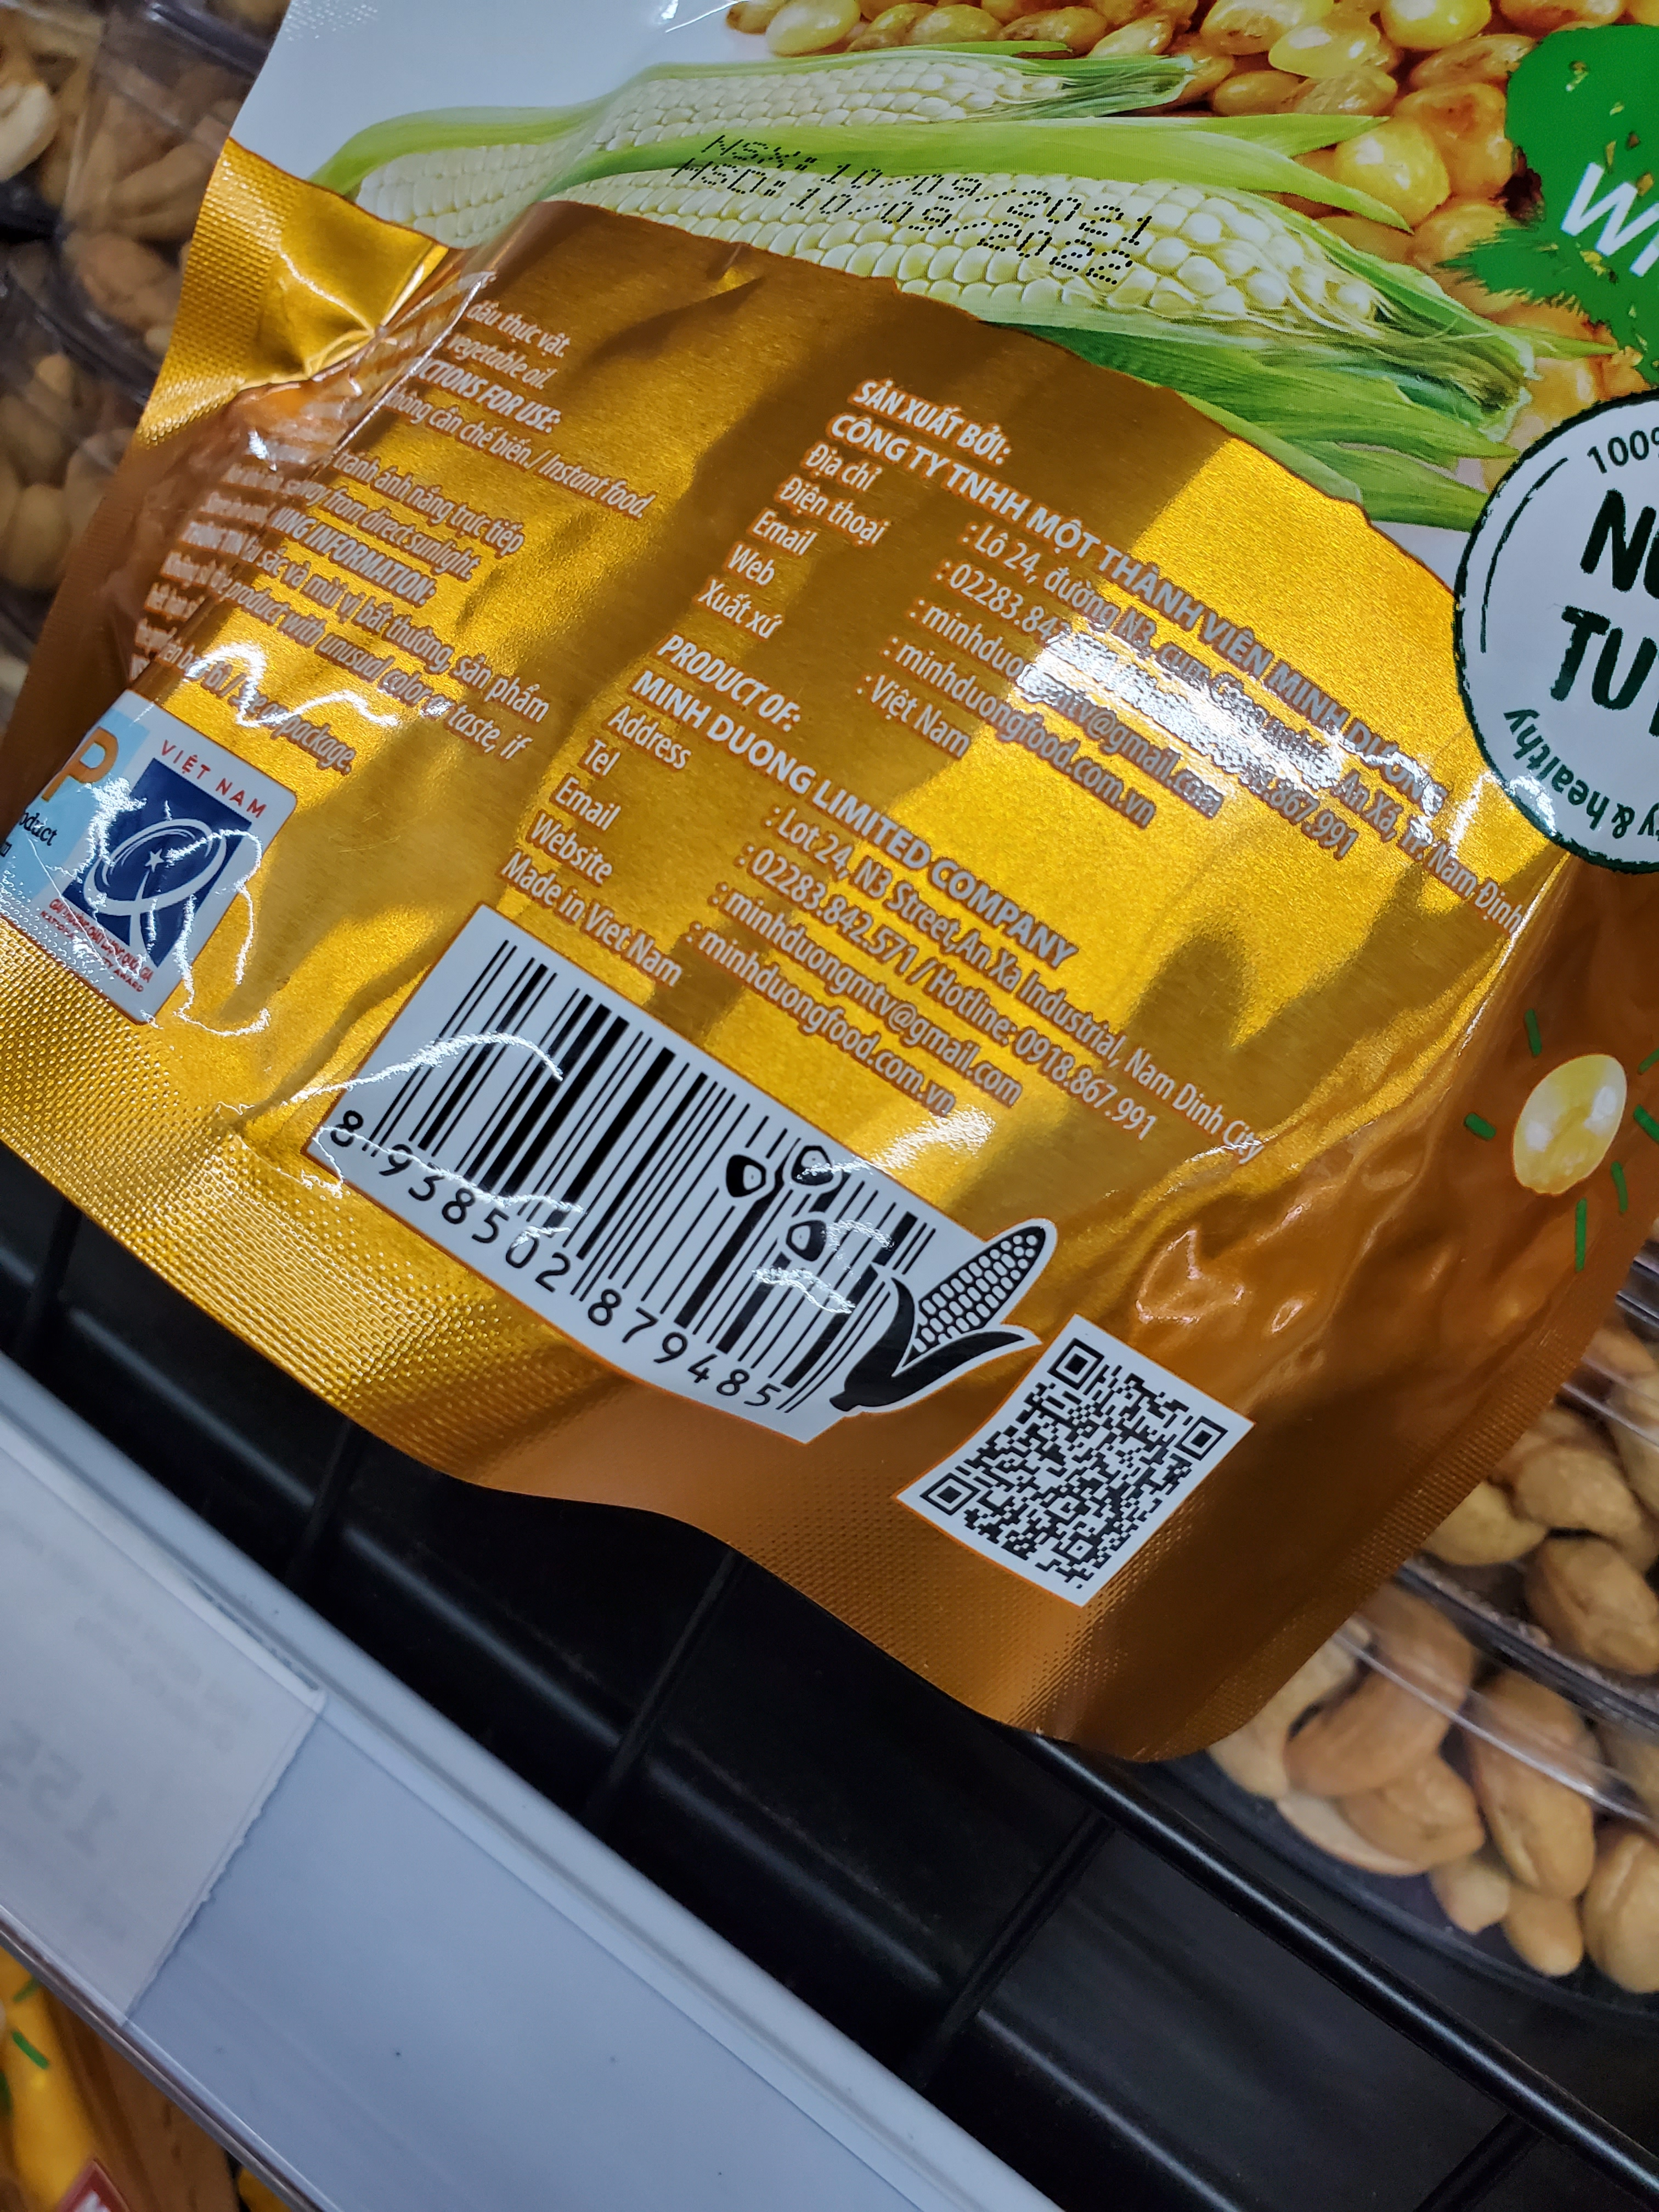barcode: (270, 932, 953, 1460)
qr code: (897, 1312, 1265, 1632)
